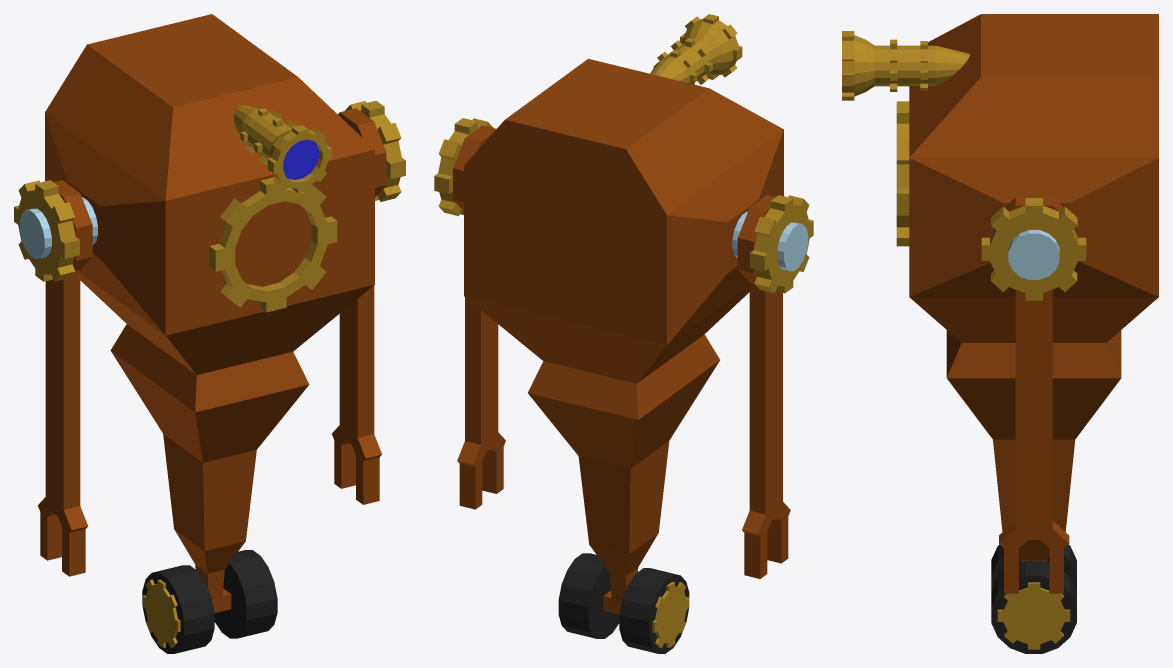
Rendered from GearEnemy.fbx.
The picture shows the model from 3 angles, left to right: view 1: azimuth 30°, elevation 25°; view 2: azimuth 150°, elevation 25°; view 3: azimuth 270°, elevation 25°; orthographic projection. The views are drawn at different scales.
Parts seen in each view (by area): view 1: Body, ArmL, ArmR, FrontGear, WheelR, WheelL; view 2: Body, ArmL, ArmR, WheelR, WheelL; view 3: Body, ArmR, WheelR, FrontGear, WheelL.
Part boxes in pixels (box(x1,y1,x2,y2)): Body: box(14, 14, 405, 647); ArmL: box(38, 180, 92, 576); ArmR: box(332, 108, 386, 504); FrontGear: box(209, 177, 337, 312); WheelR: box(214, 550, 277, 638); WheelL: box(142, 565, 214, 653); Body: box(434, 14, 813, 648); ArmL: box(737, 195, 790, 578); ArmR: box(453, 125, 505, 509); WheelR: box(558, 553, 619, 638); WheelL: box(619, 568, 689, 653); Body: box(842, 14, 1158, 649); ArmR: box(990, 197, 1077, 593); WheelR: box(991, 560, 1076, 653); FrontGear: box(896, 101, 909, 246); WheelL: box(991, 544, 1076, 591).
Bounding box in the file's own units: 679 × 1054 × 508.
